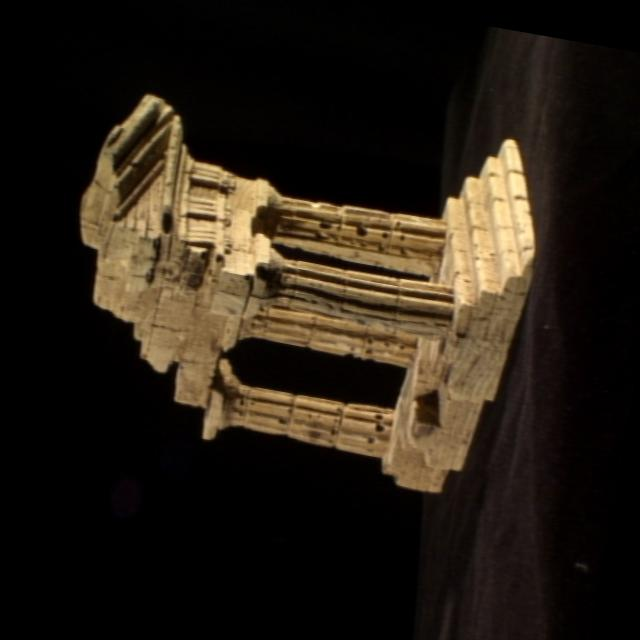Instance-Segmentation: (81, 93, 534, 490)
